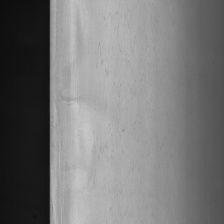silk_spot: (95, 16, 150, 224)
